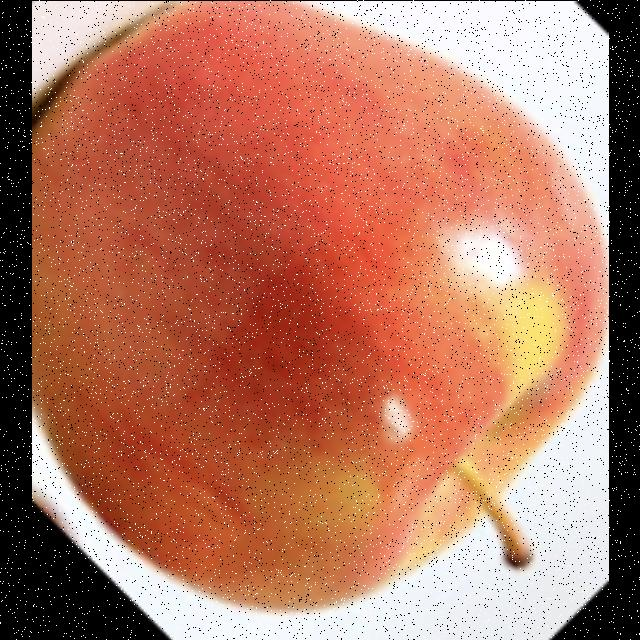Apel Segar: (31, 0, 608, 622)
